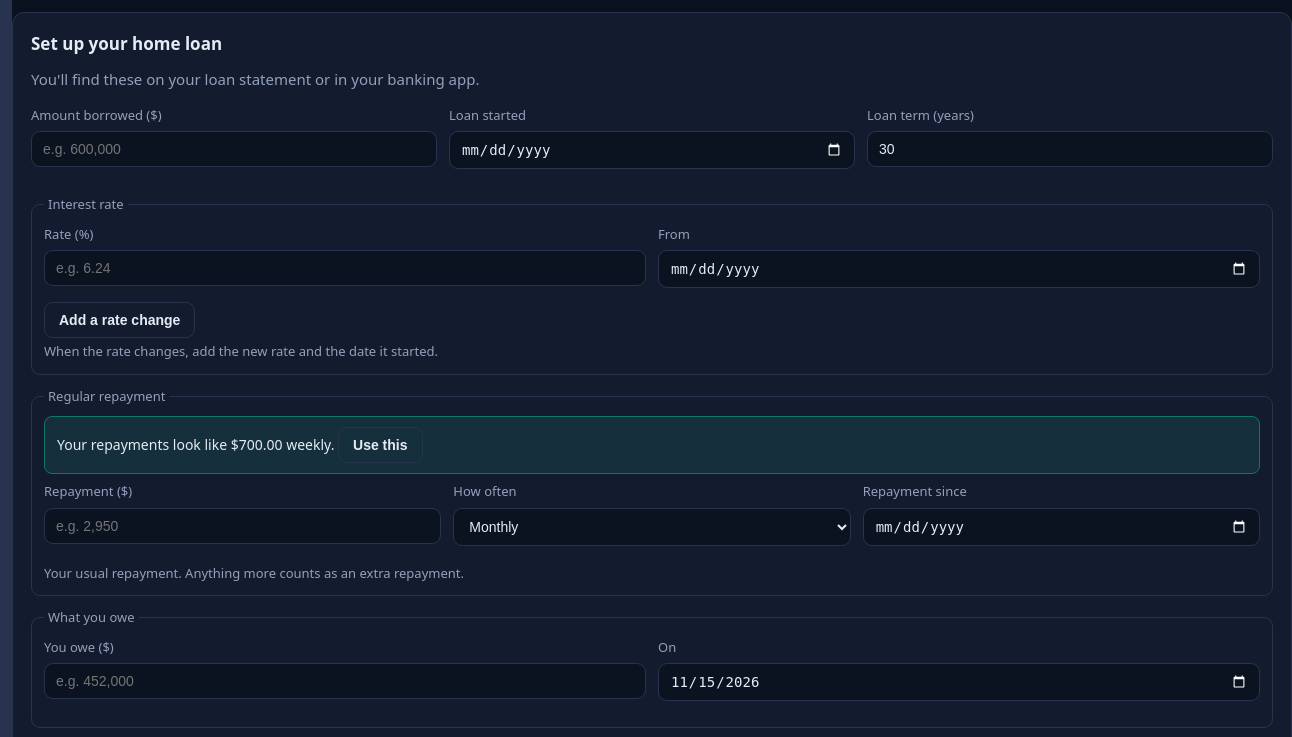
Scenario: Mortgage page › won't save a rate that isn't one, or a first setup without what is owed
Expected: the heading "Set up your home loan" is shown, [31,32,222,54]
Type "six" into the field labelled "Rate (%)" at [345, 268], box [44,250,646,286]
(page scrolled)
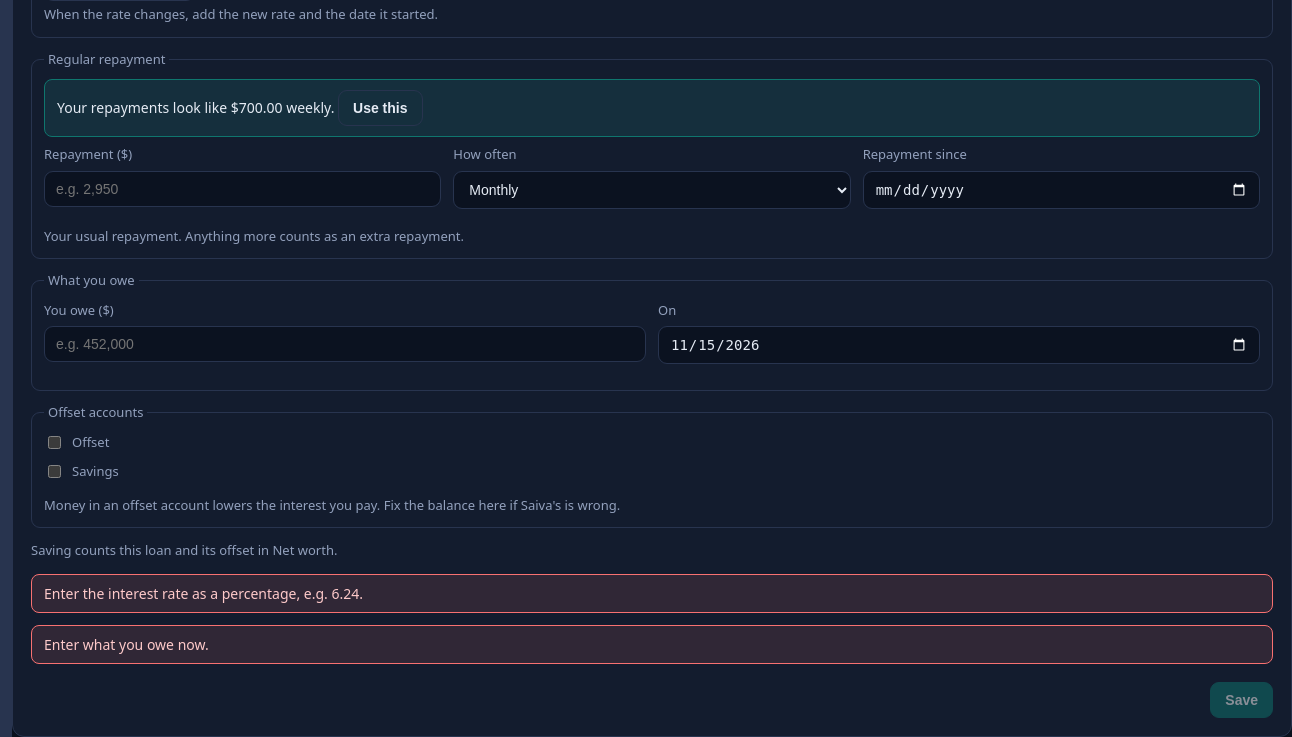
Expected: the button "Save" is disabled, [1210,682,1273,718]
Now the text "Enter the interest rate as a percentage, e.g. 6.24." is shown, box [31,574,1273,612]
